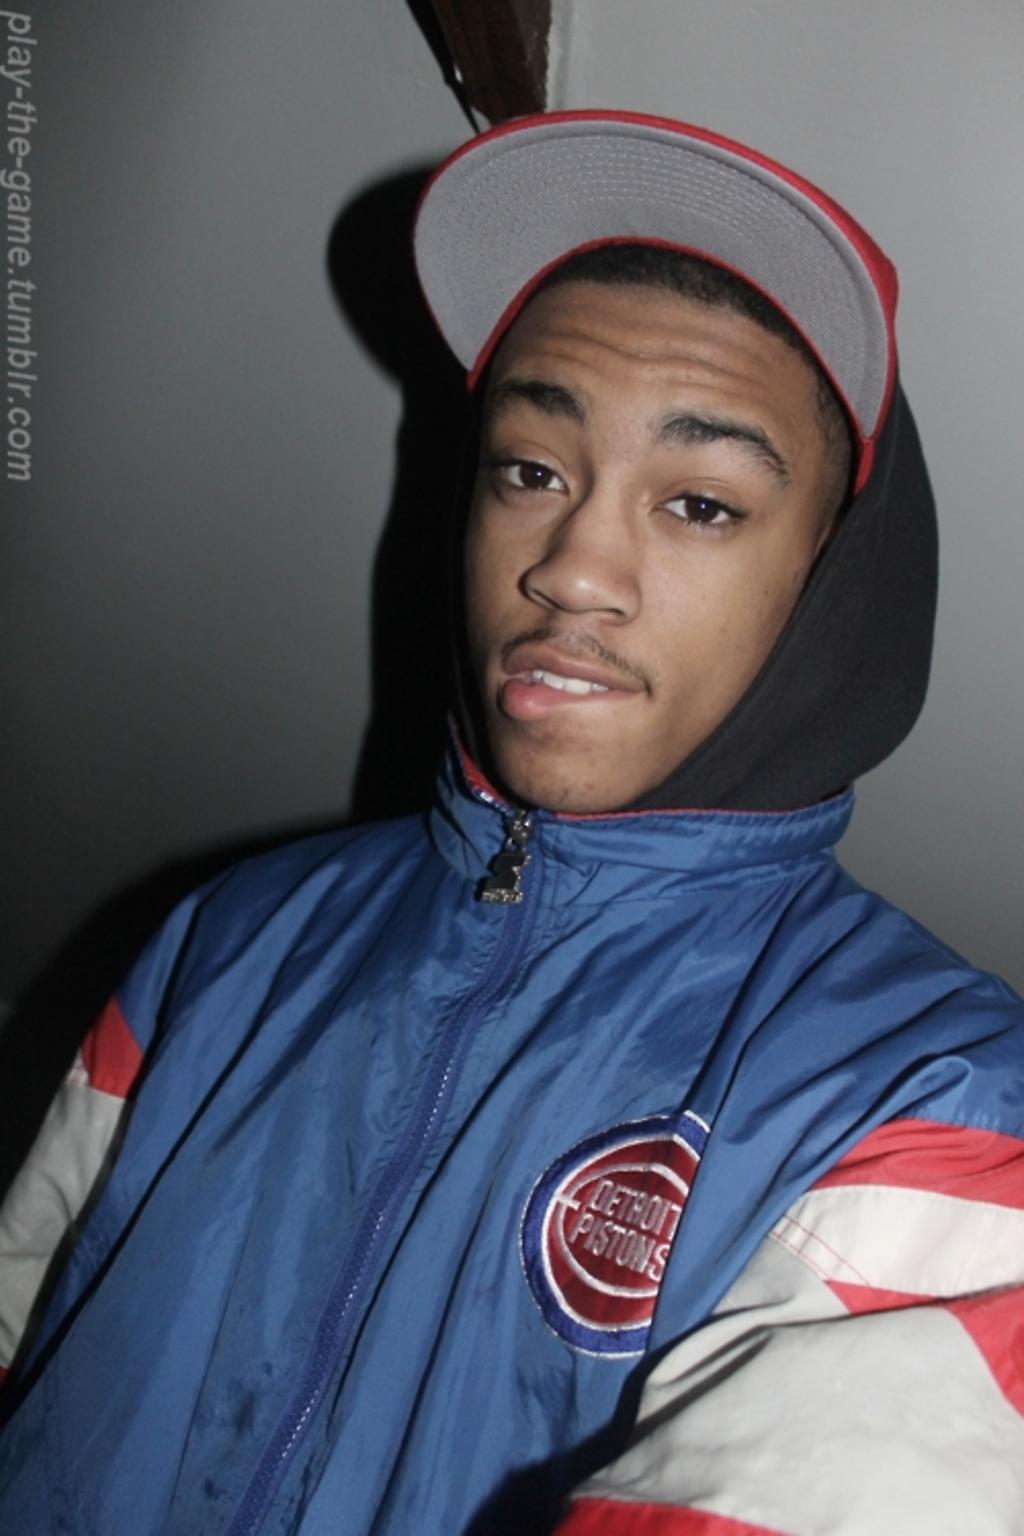face: (456, 285, 819, 805)
